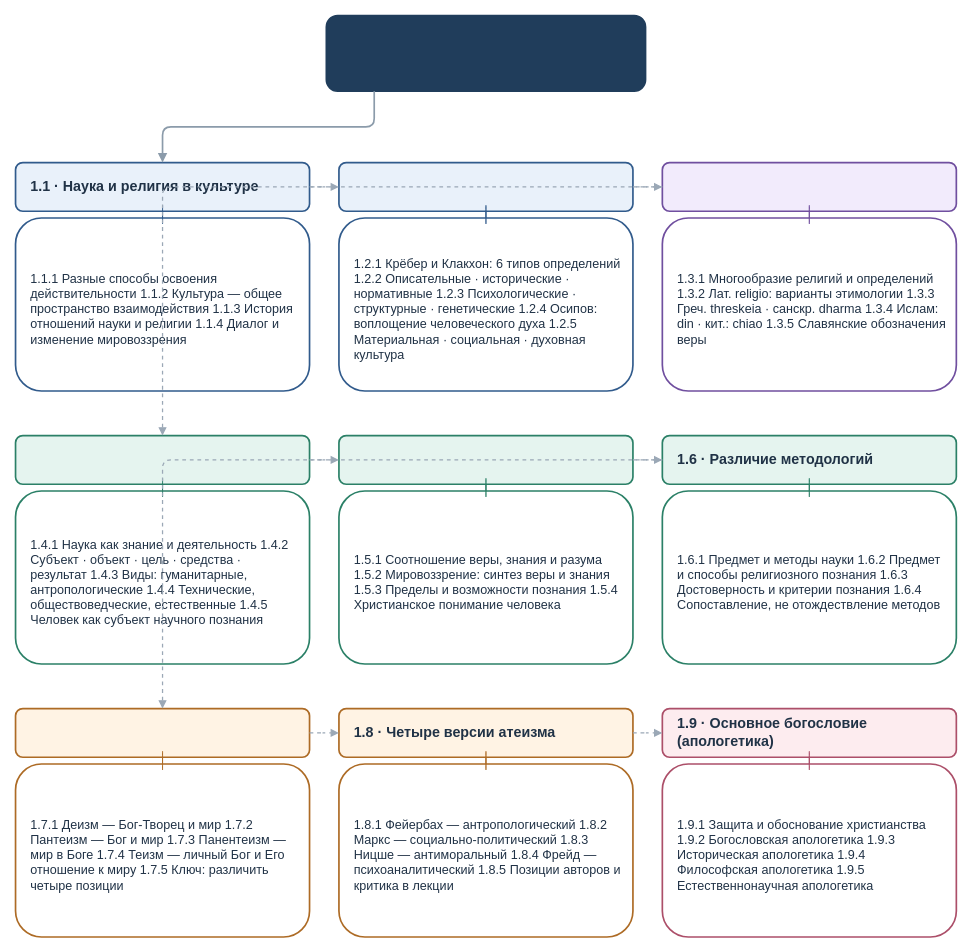
Image size: 971x952. Some labels were removed from this diagram. The box of each missing label's shape, as (x1, y1, x2, y2) in pixels:
1.2 · Определения культуры: (338, 161, 633, 212)
1.3 · Понятие религии: (661, 161, 957, 212)
1.4 · Определение науки: (14, 434, 310, 485)
1.5 · Вера и разум: (338, 434, 633, 485)
1.7 · Религиозно-философские системы: (14, 707, 310, 758)
ТЕМА 1 · НУМЕРАЦИЯ 1.S.E 42 смысловых элемента · редакция 2: (325, 14, 646, 92)
